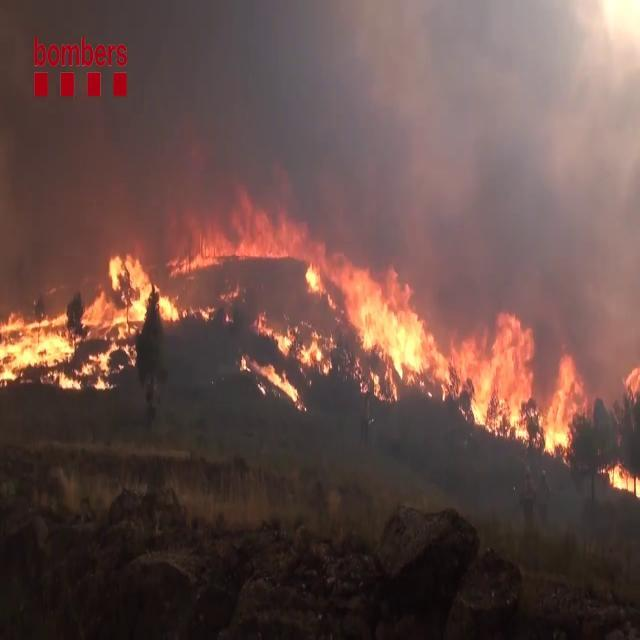Fire: (321, 254, 583, 458), (0, 242, 184, 396), (162, 176, 328, 284), (241, 306, 336, 398), (600, 452, 640, 504)
Smoke: (117, 1, 635, 282)
